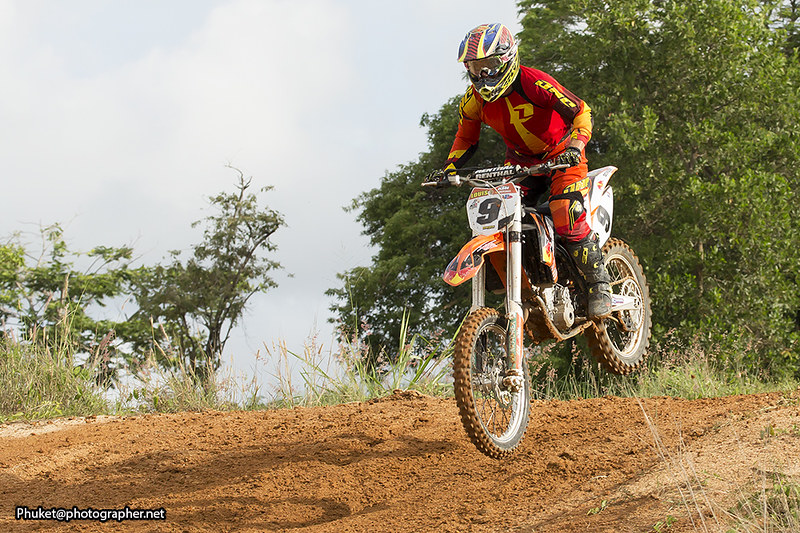helmet: (455, 23, 521, 96)
